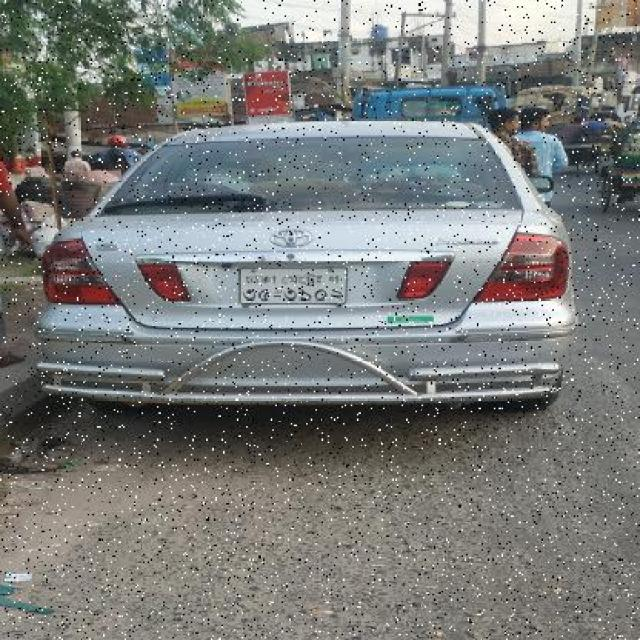numberplate: (237, 263, 348, 306)
